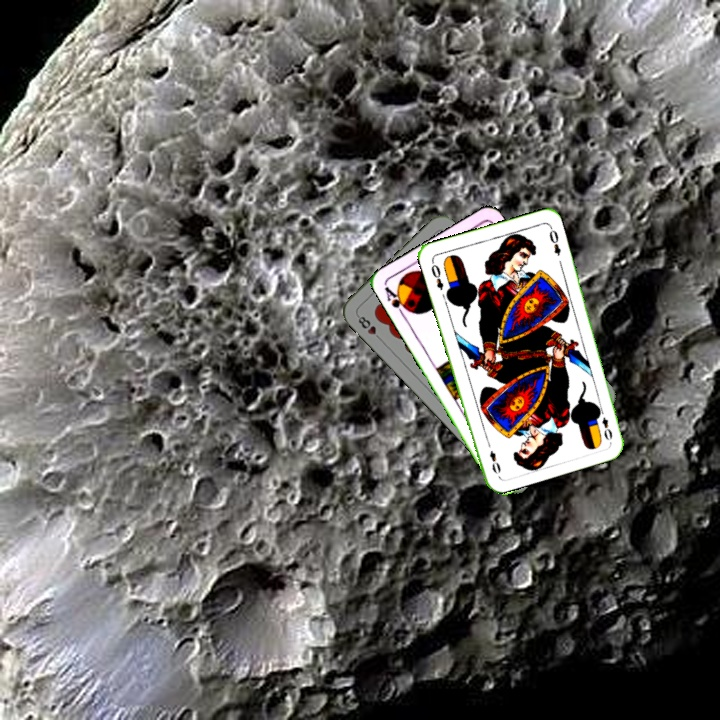EO: (594, 404, 615, 443), (427, 257, 446, 293)
H8: (353, 312, 385, 343)
SA: (381, 282, 413, 320)
